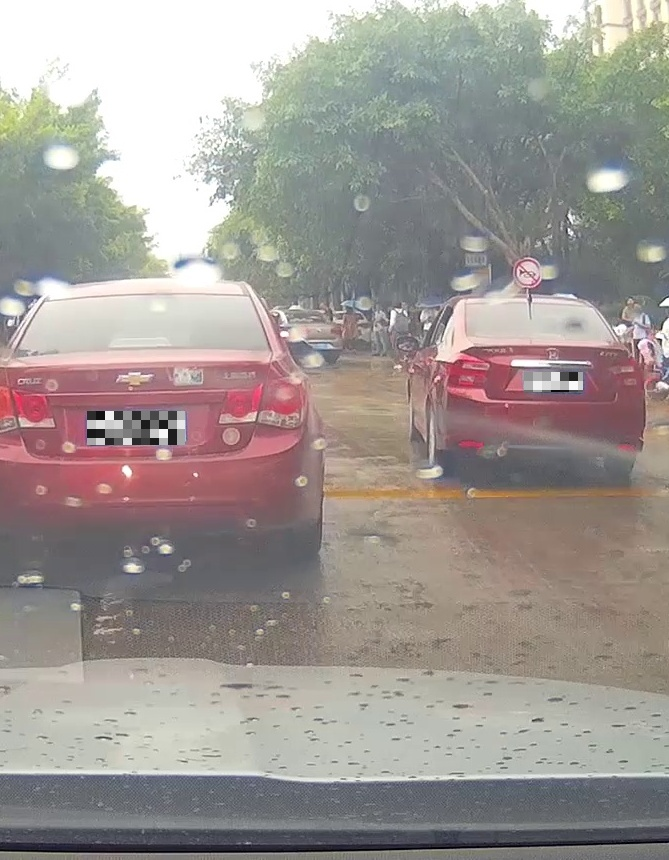L_light: (0, 386, 56, 434), (448, 352, 488, 385)
R_light: (219, 375, 306, 428), (610, 359, 641, 389)
T_light: (109, 337, 169, 347), (521, 303, 547, 310)
day-no: (0, 284, 322, 561), (446, 298, 645, 476)
plate_1: (87, 411, 185, 445)
plate_2: (524, 372, 583, 392)
